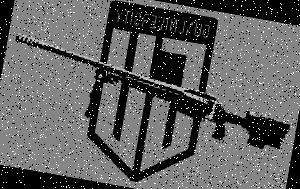sniper: (4, 30, 300, 157)
